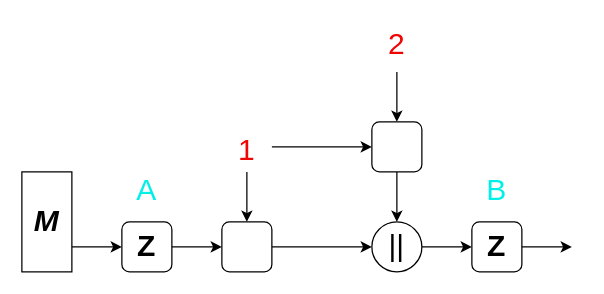
The diagram is 604 pixels wide and 294 high, and some of its shapes have lost their labels. The centre of each missing label's shape, as x and y in pixels:
EC: pixel 246 246
EP: pixel 396 146
